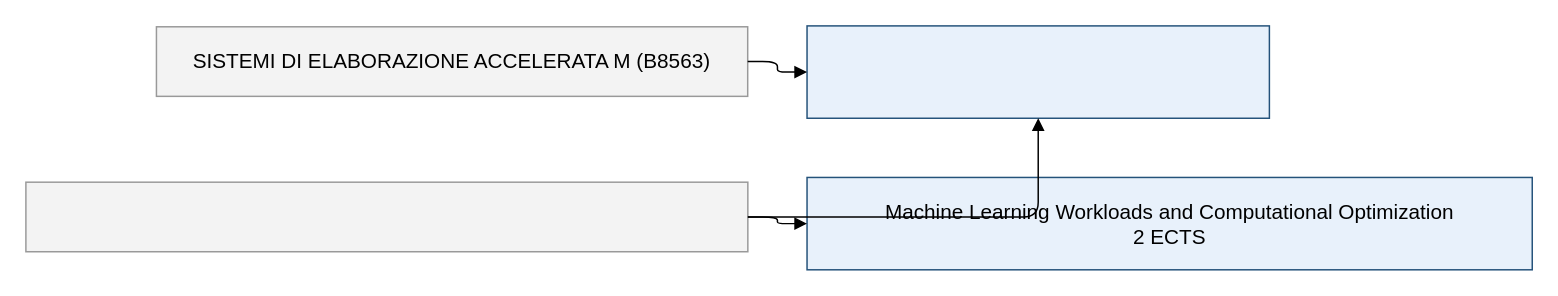
Image size: 1558x296. Some labels were removed from this diagram. Here are the shapes that lost their labels. From the top down, the centre of each, then its label:
At point 1037,71: "CUDA Architecture and Programming 2 ECTS".
At point 386,216: "Architecture and Platforms for Artificial Intelligence (91259)".
